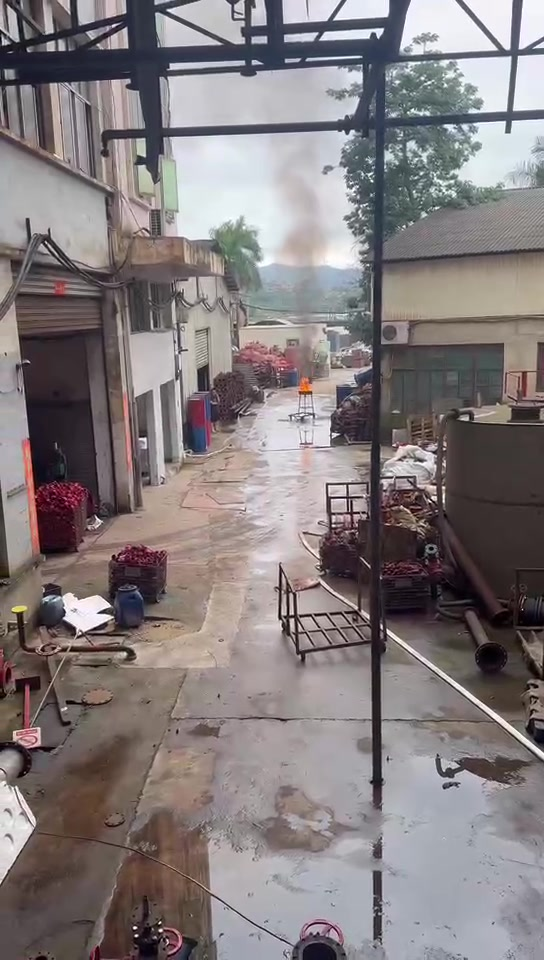fire: (298, 375, 311, 391)
